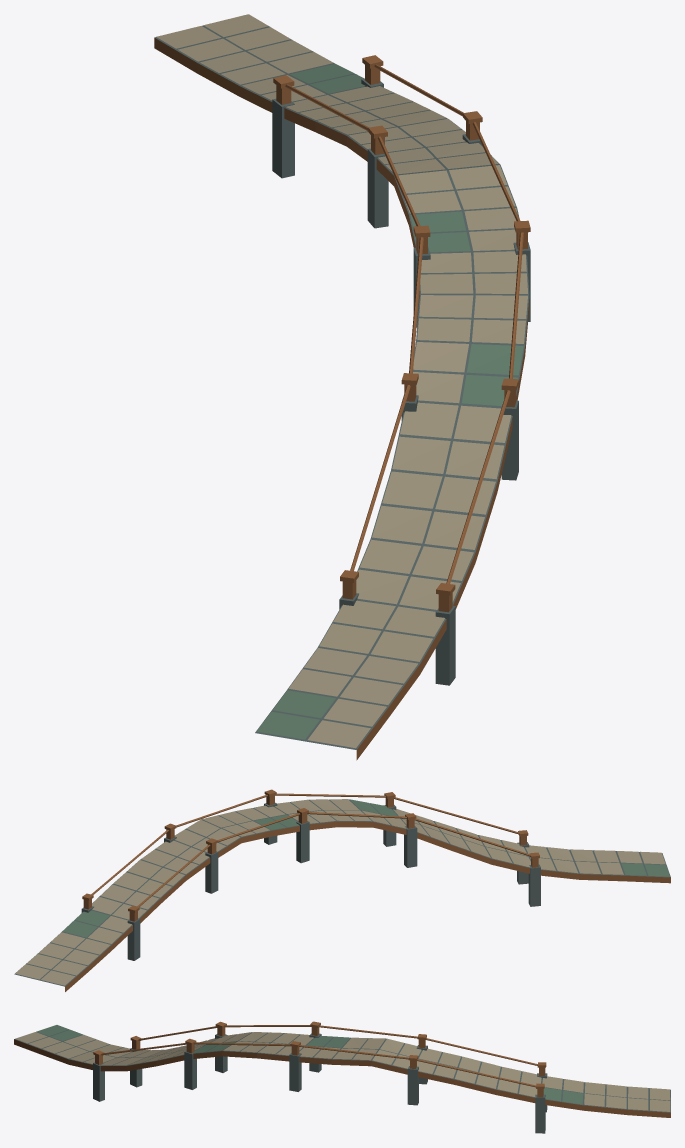
Rendered from 1_mineral_spring_0.glb.
3 renders of one model, top to bottom at view 1: azimuth 30°, elevation 25°; view 2: azimuth 150°, elevation 25°; view 3: azimuth 270°, elevation 25°, orthographic. The views are drawn at different scales.
Visible parts, largest first — view 1: Detail_12_14, Detail_13_14, Deck_12_14-col, Deck_13_14-col, Detail_12_15; view 2: Detail_13_14, Detail_12_14, Deck_13_14-col, Deck_12_14-col; view 3: Detail_13_14, Detail_12_14, Deck_13_14-col, Deck_12_14-col, Detail_12_15.
Boxes of the visible parts, x1,y1,x2,y2 form: Detail_12_14: [256, 232, 525, 739]; Detail_13_14: [154, 14, 530, 356]; Deck_12_14-col: [255, 252, 529, 749]; Deck_13_14-col: [154, 25, 519, 253]; Detail_12_15: [307, 707, 388, 760]; Detail_13_14: [15, 789, 340, 991]; Detail_12_14: [275, 792, 670, 906]; Deck_13_14-col: [14, 808, 299, 986]; Deck_12_14-col: [274, 799, 670, 877]; Detail_13_14: [222, 1021, 670, 1133]; Detail_12_14: [29, 1021, 311, 1101]; Deck_13_14-col: [300, 1036, 670, 1112]; Deck_12_14-col: [14, 1029, 314, 1065]; Detail_12_15: [14, 1032, 47, 1054].
Size of the model in its own units: 16.03 by 6.34 by 29.98.
